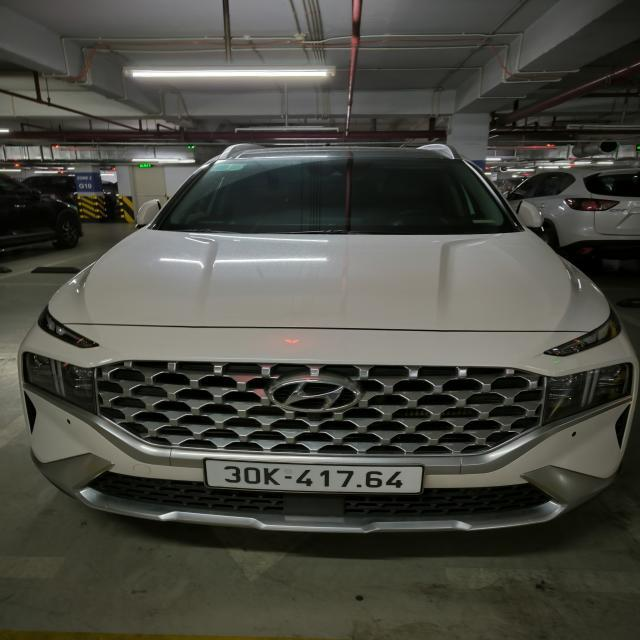license: (202, 458, 424, 495)
